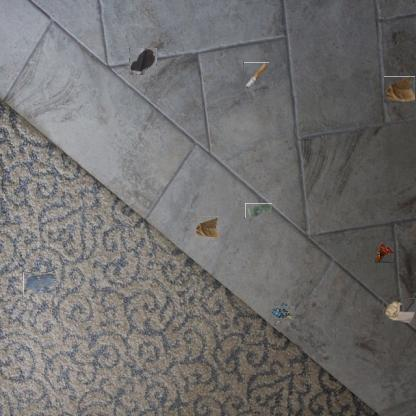dirty: (384, 76, 416, 103), (383, 298, 415, 324), (243, 62, 269, 89), (193, 216, 219, 238), (374, 241, 394, 263), (272, 303, 292, 324), (245, 203, 272, 218)
liquid: (129, 47, 157, 75), (23, 272, 56, 294)
